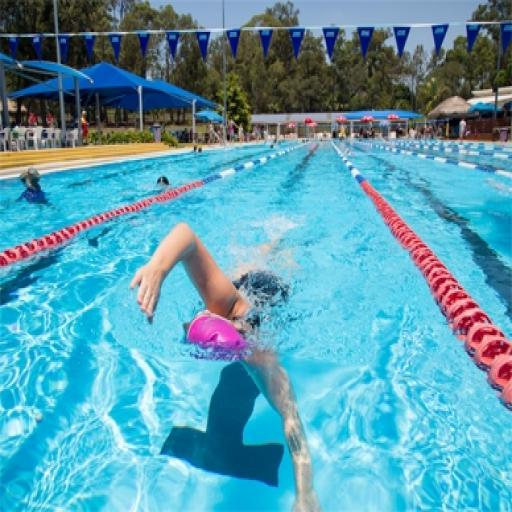swimming: (126, 219, 324, 510), (12, 165, 50, 209)
